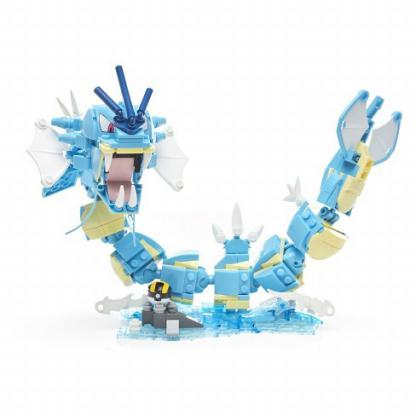Gyarados: (18, 51, 405, 368)
